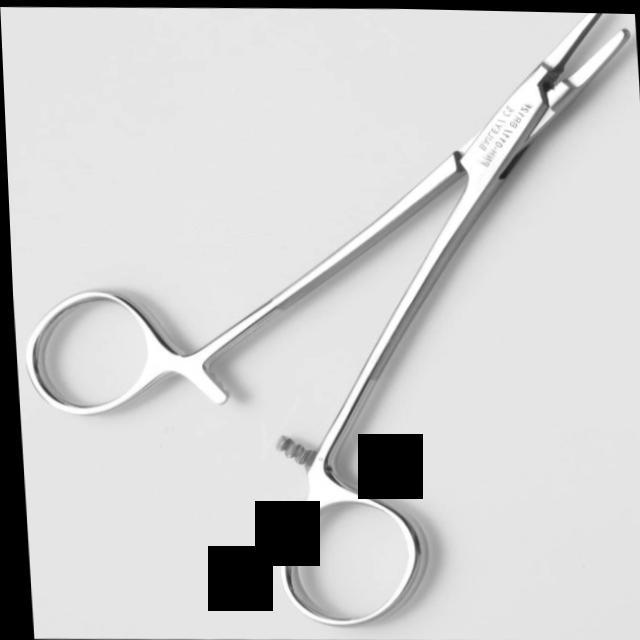Needle Holder: (1, 0, 640, 637)
